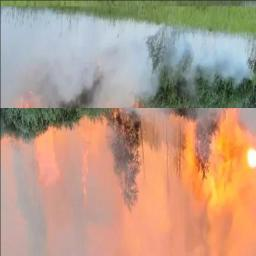Large fire: (1, 107, 256, 256)
